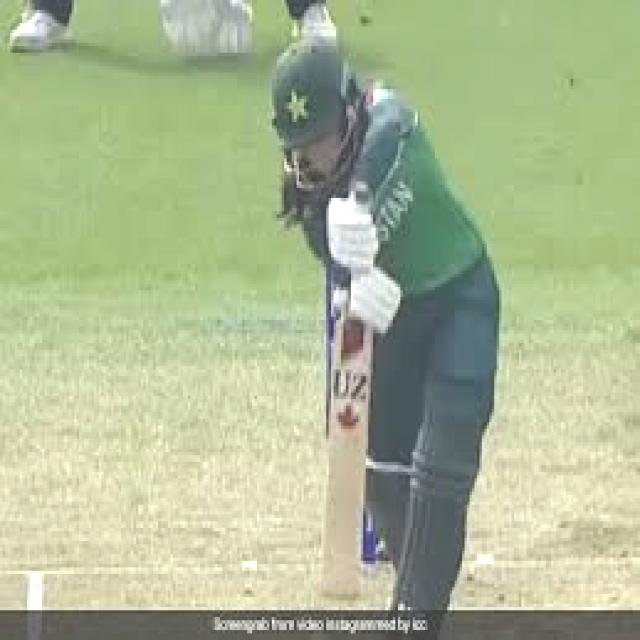toe: (318, 533, 364, 601)
